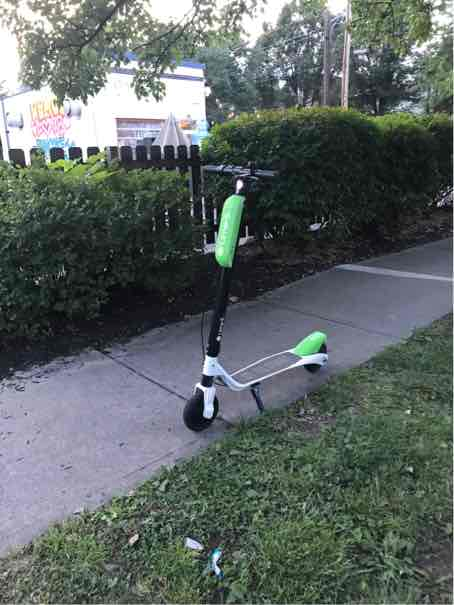scooter: (179, 150, 330, 447)
